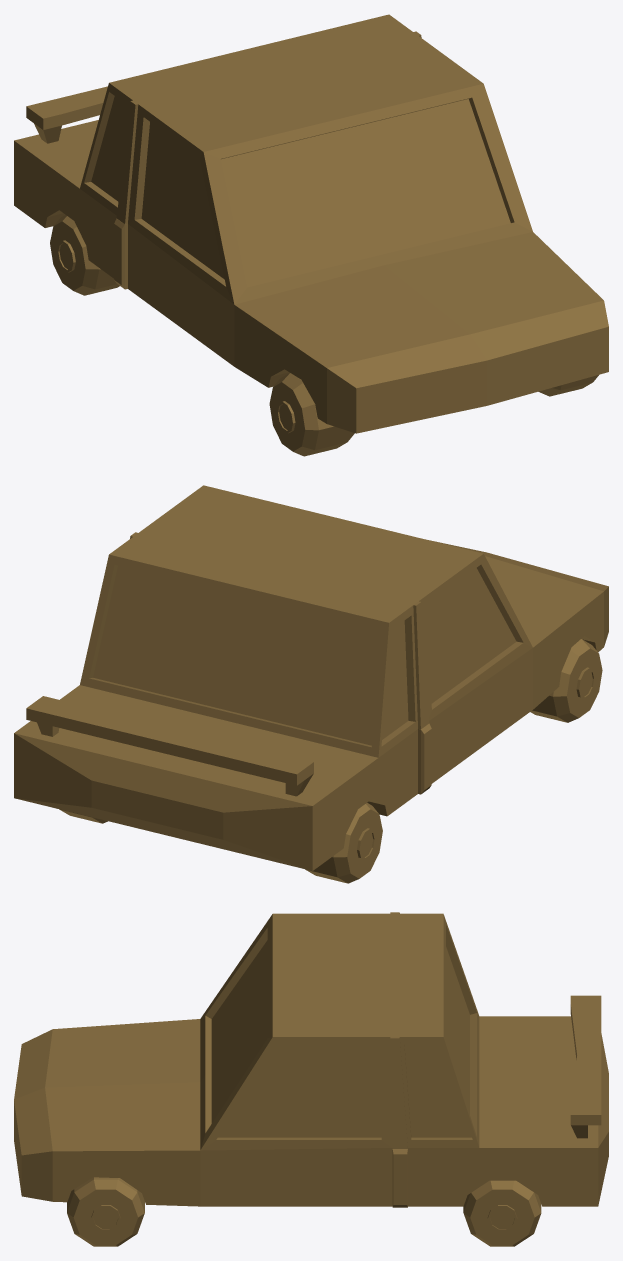
The model's file is pickup.glb.
The picture shows the model from 3 angles, top to bottom: view 1: azimuth 30°, elevation 25°; view 2: azimuth 150°, elevation 25°; view 3: azimuth 270°, elevation 25°; orthographic projection. The views are drawn at different scales.
Visible parts, largest first — view 1: Cube001, FrontWheels001, FrontWheels000; view 2: Cube001, FrontWheels001, FrontWheels000; view 3: Cube001, FrontWheels001, FrontWheels000.
Part boxes in pixels (x1,y1,x2,y2): Cube001: (14,14,608,433); FrontWheels001: (269,373,598,456); FrontWheels000: (50,215,119,295); Cube001: (14,485,608,870); FrontWheels001: (530,639,602,722); FrontWheels000: (59,803,382,883); Cube001: (14,912,608,1207); FrontWheels001: (67,1177,144,1246); FrontWheels000: (463,1180,541,1246).
Bounding box in the file's own units: 219 × 157 × 403.
